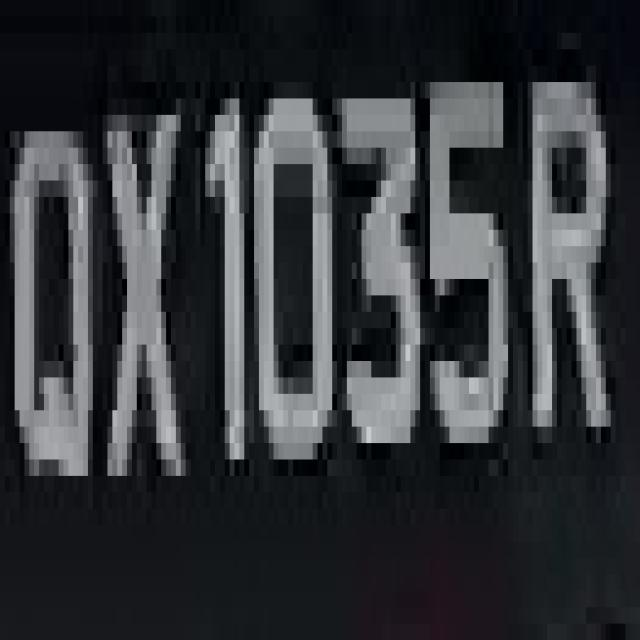0: (239, 50, 342, 492)
1: (205, 49, 254, 525)
3: (337, 33, 425, 476)
5: (415, 16, 518, 509)
Q: (14, 66, 102, 525)
R: (523, 33, 620, 492)
X: (102, 49, 176, 558)
